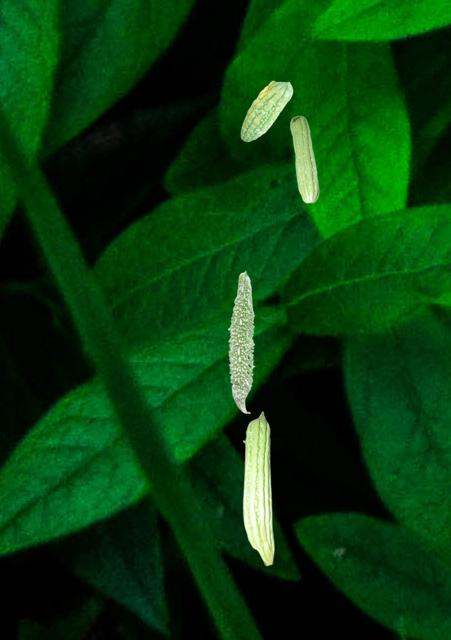ampalaya: (242, 411, 274, 566), (227, 270, 256, 414), (240, 80, 293, 142), (289, 115, 319, 203)
